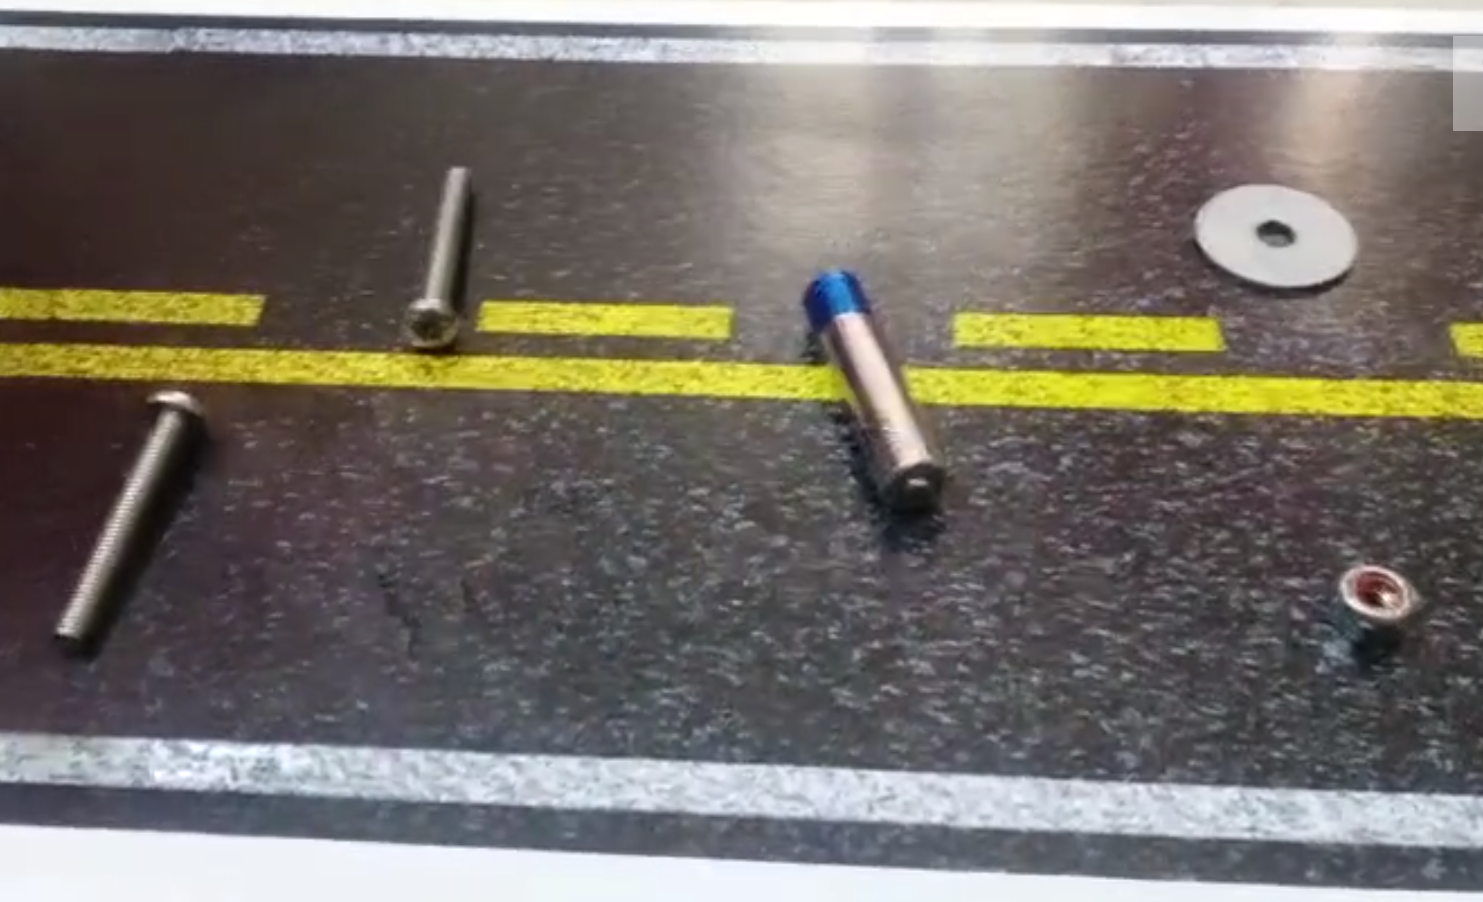metal: (34, 381, 207, 655), (792, 261, 945, 524), (1189, 178, 1366, 303), (400, 161, 471, 349), (1332, 549, 1423, 654)
